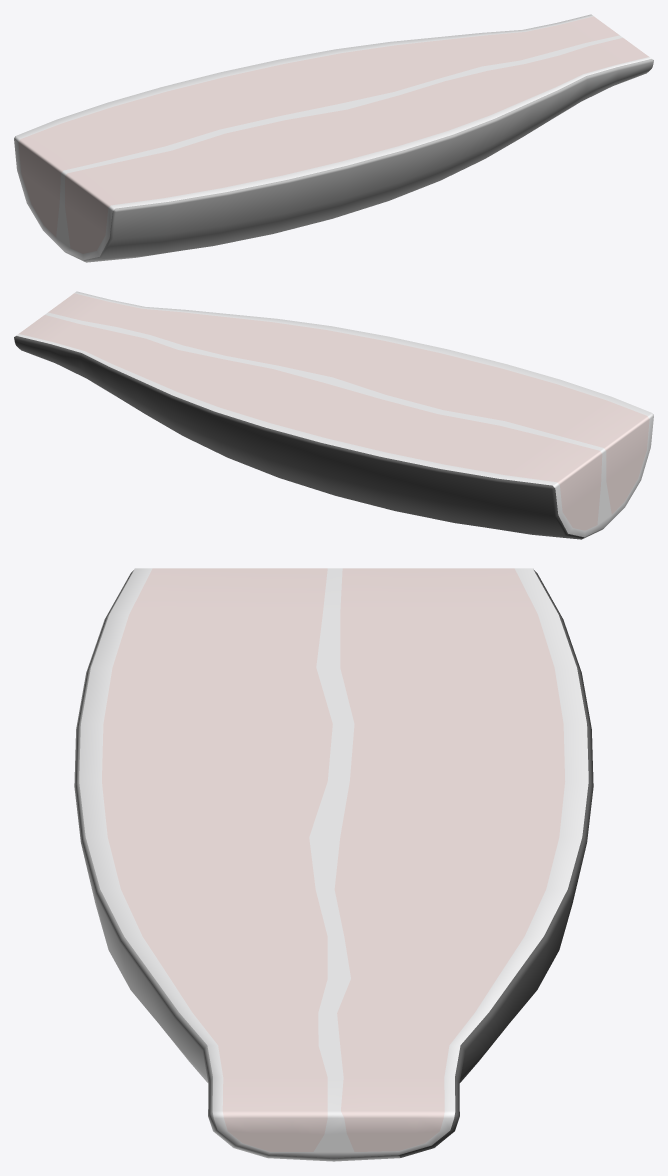
Rendered from SeaBass_2_Fillet_1.fbx.
The picture shows the model from 3 angles, top to bottom: view 1: azimuth 30°, elevation 25°; view 2: azimuth 150°, elevation 25°; view 3: azimuth 270°, elevation 25°; orthographic projection. The views are drawn at different scales.
Visible parts, largest first — view 1: SeaBass_2_Fillet_1; view 2: SeaBass_2_Fillet_1; view 3: SeaBass_2_Fillet_1.
Boxes of the visible parts, bbox=[...] form: SeaBass_2_Fillet_1: bbox=[14, 14, 653, 262]; SeaBass_2_Fillet_1: bbox=[14, 291, 653, 539]; SeaBass_2_Fillet_1: bbox=[74, 568, 593, 1161].
Size of the model in its own units: 68.79 by 10.48 by 27.59.
